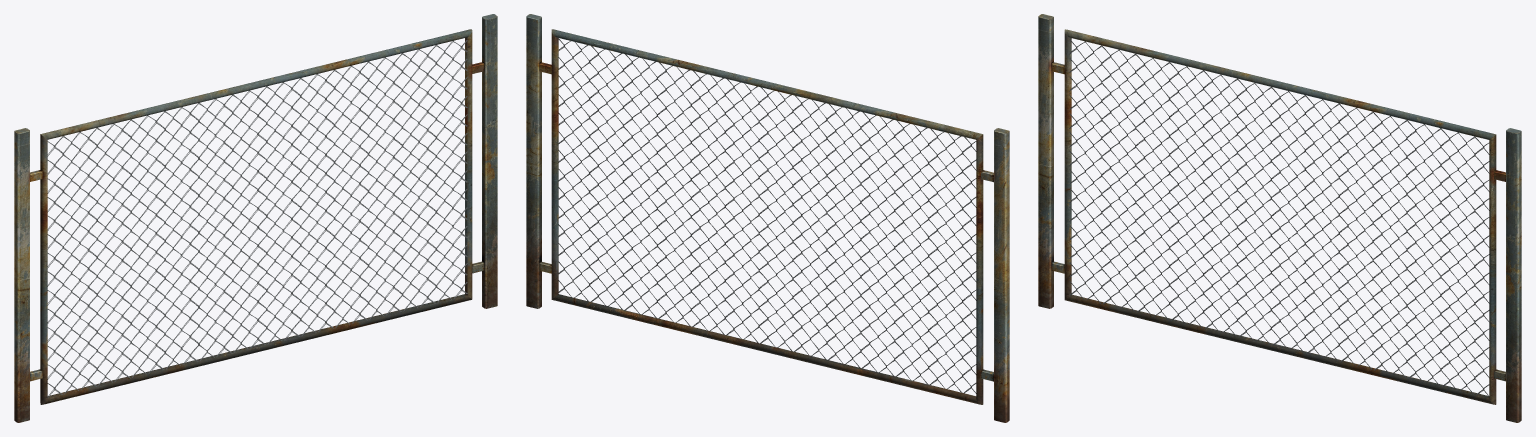
File: fence_rabitz.FBX
3 renders of one model, left to right at view 1: azimuth 30°, elevation 25°; view 2: azimuth 150°, elevation 25°; view 3: azimuth 330°, elevation 25°, orthographic.
Parts seen in each view (by area): view 1: static:fence_01; view 2: static:fence_01; view 3: static:fence_01.
Part boxes in pixels (<box>): static:fence_01: <box>14,14,497,422</box>; static:fence_01: <box>526,14,1009,422</box>; static:fence_01: <box>1038,14,1521,422</box>.
Size of the model in its own units: 3.13 by 1.8 by 0.0493.
2 materials, 2 textured.
